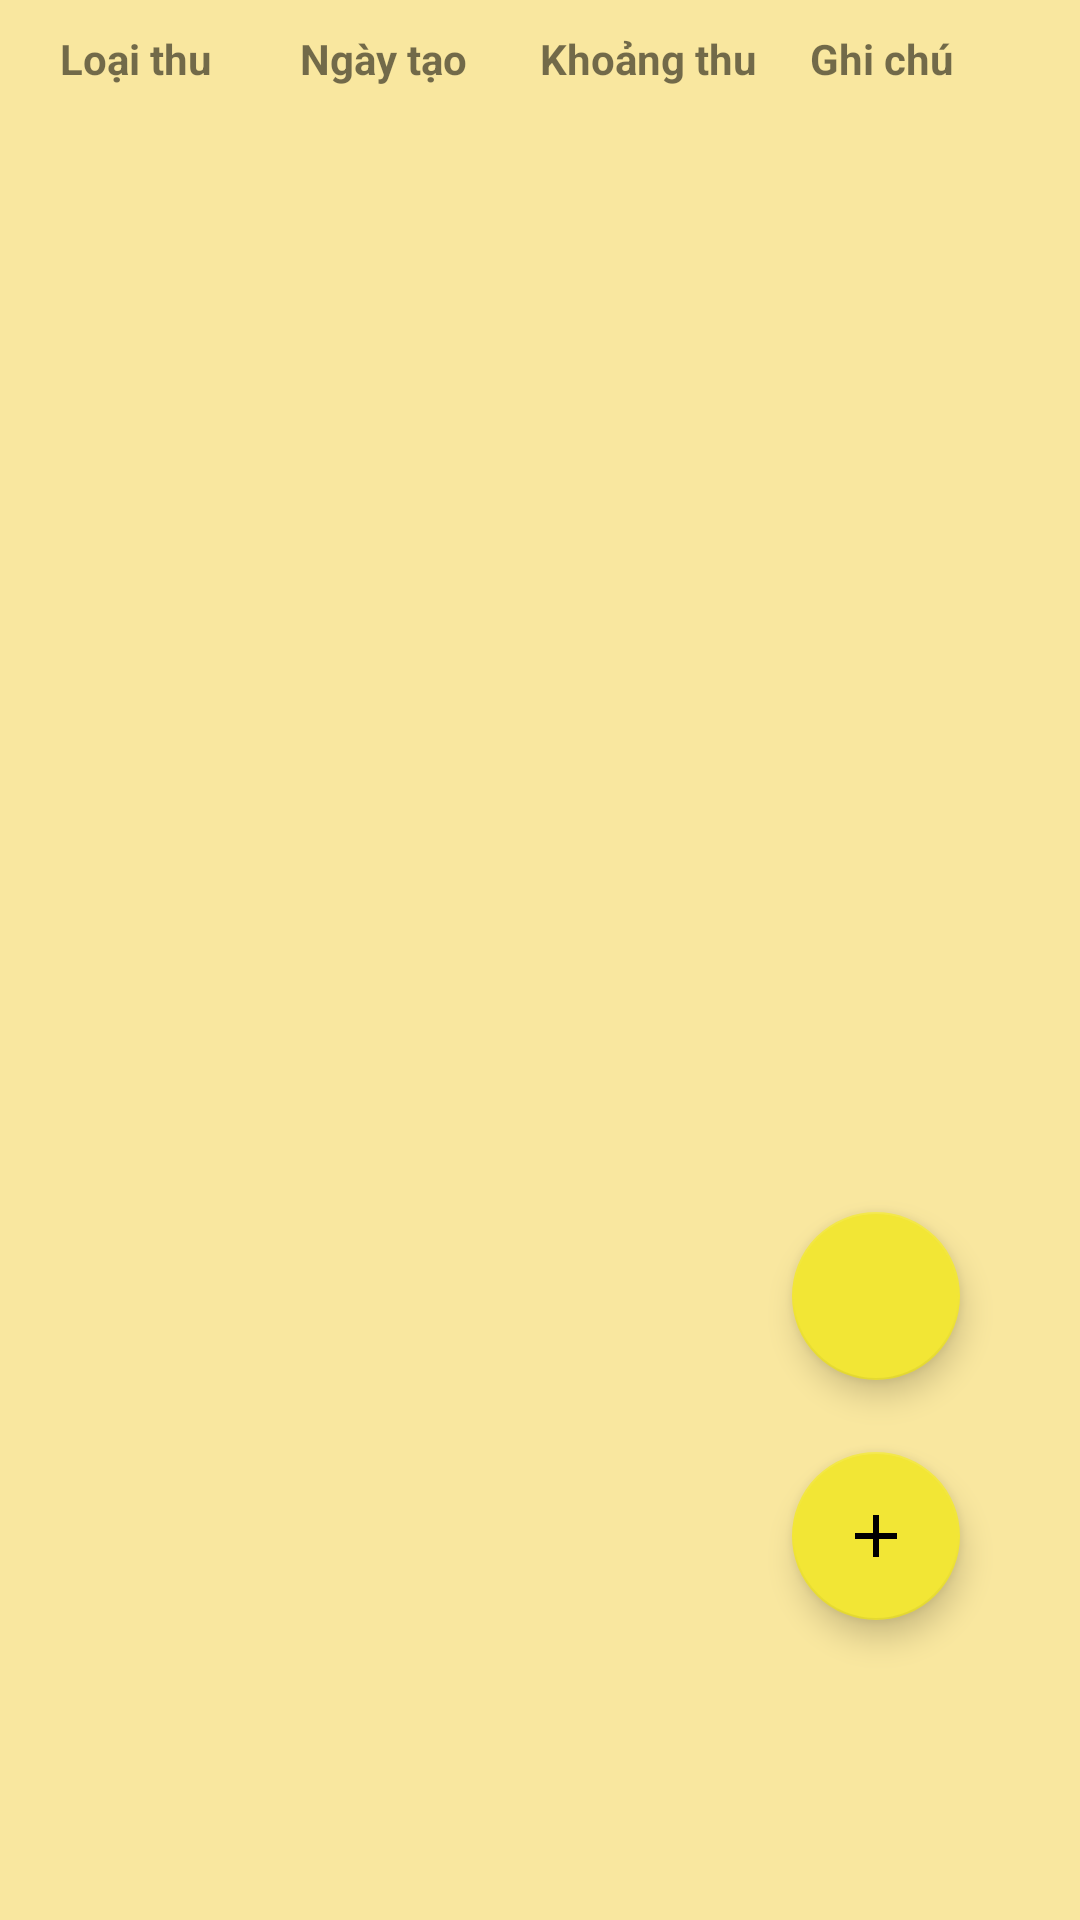

Named icons in this screenshot (1080 x 1920) and their centers, [x,y]:
add: [876,1536]
